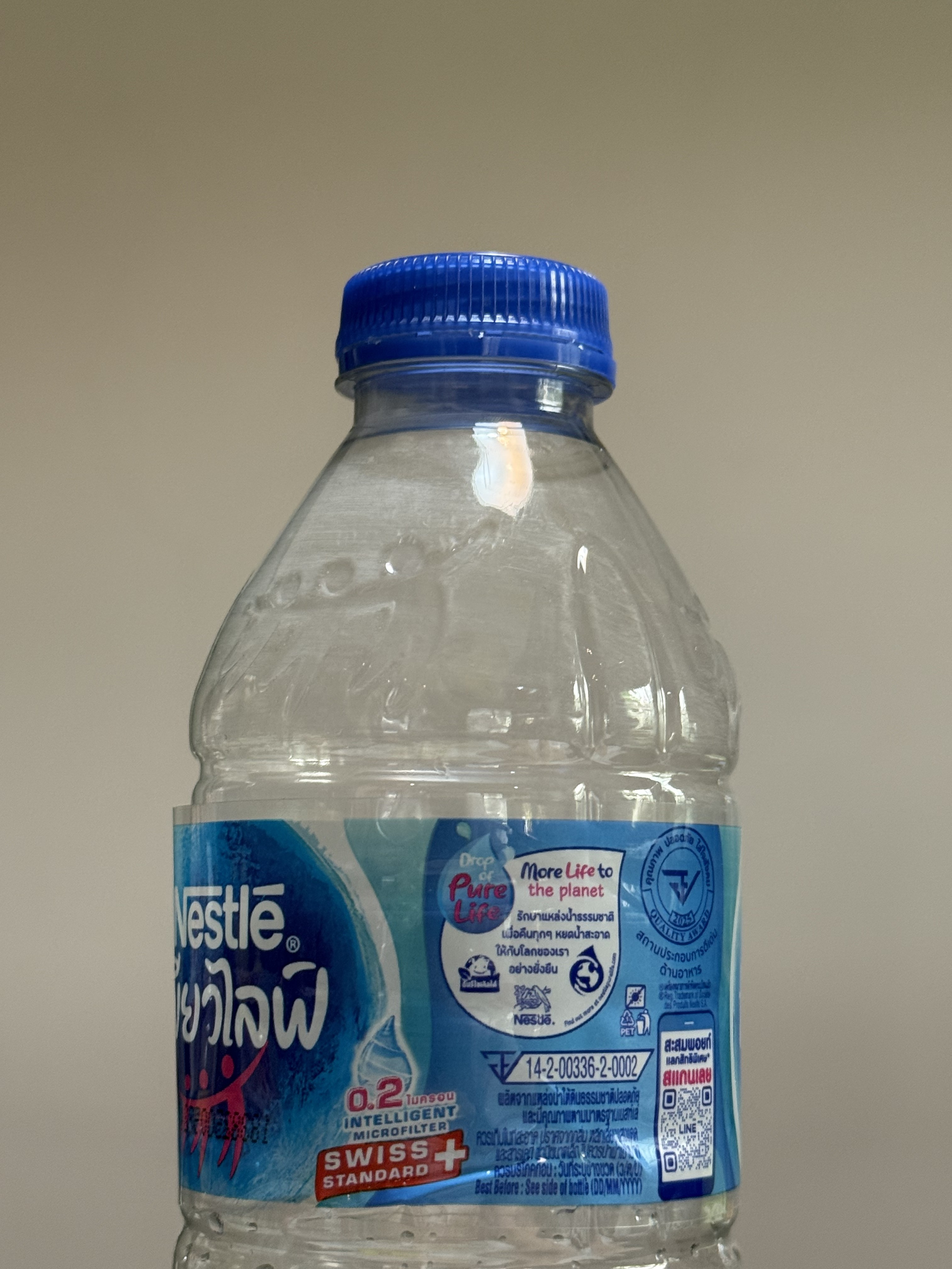closed_cap: (331, 246, 619, 400)
